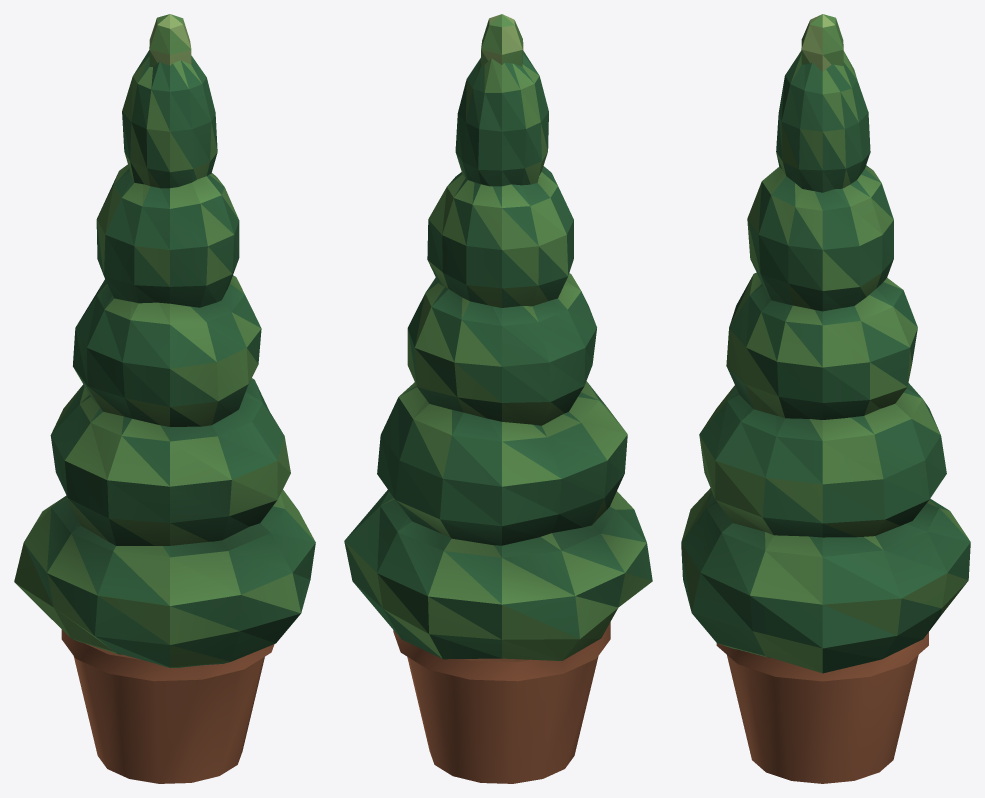
The model's file is chau-cay-non.glb.
The picture shows the model from 3 angles, left to right: view 1: azimuth 30°, elevation 25°; view 2: azimuth 150°, elevation 25°; view 3: azimuth 270°, elevation 25°; orthographic projection.
Visible parts, largest first — view 1: chau-cay-non; view 2: chau-cay-non; view 3: chau-cay-non.
Part boxes in pixels (x1,y1,x2,y2): chau-cay-non: [14, 14, 315, 783]; chau-cay-non: [344, 14, 652, 783]; chau-cay-non: [681, 14, 970, 783].
Bounding box in the file's own units: 0.5941 × 1.62 × 0.5746.
